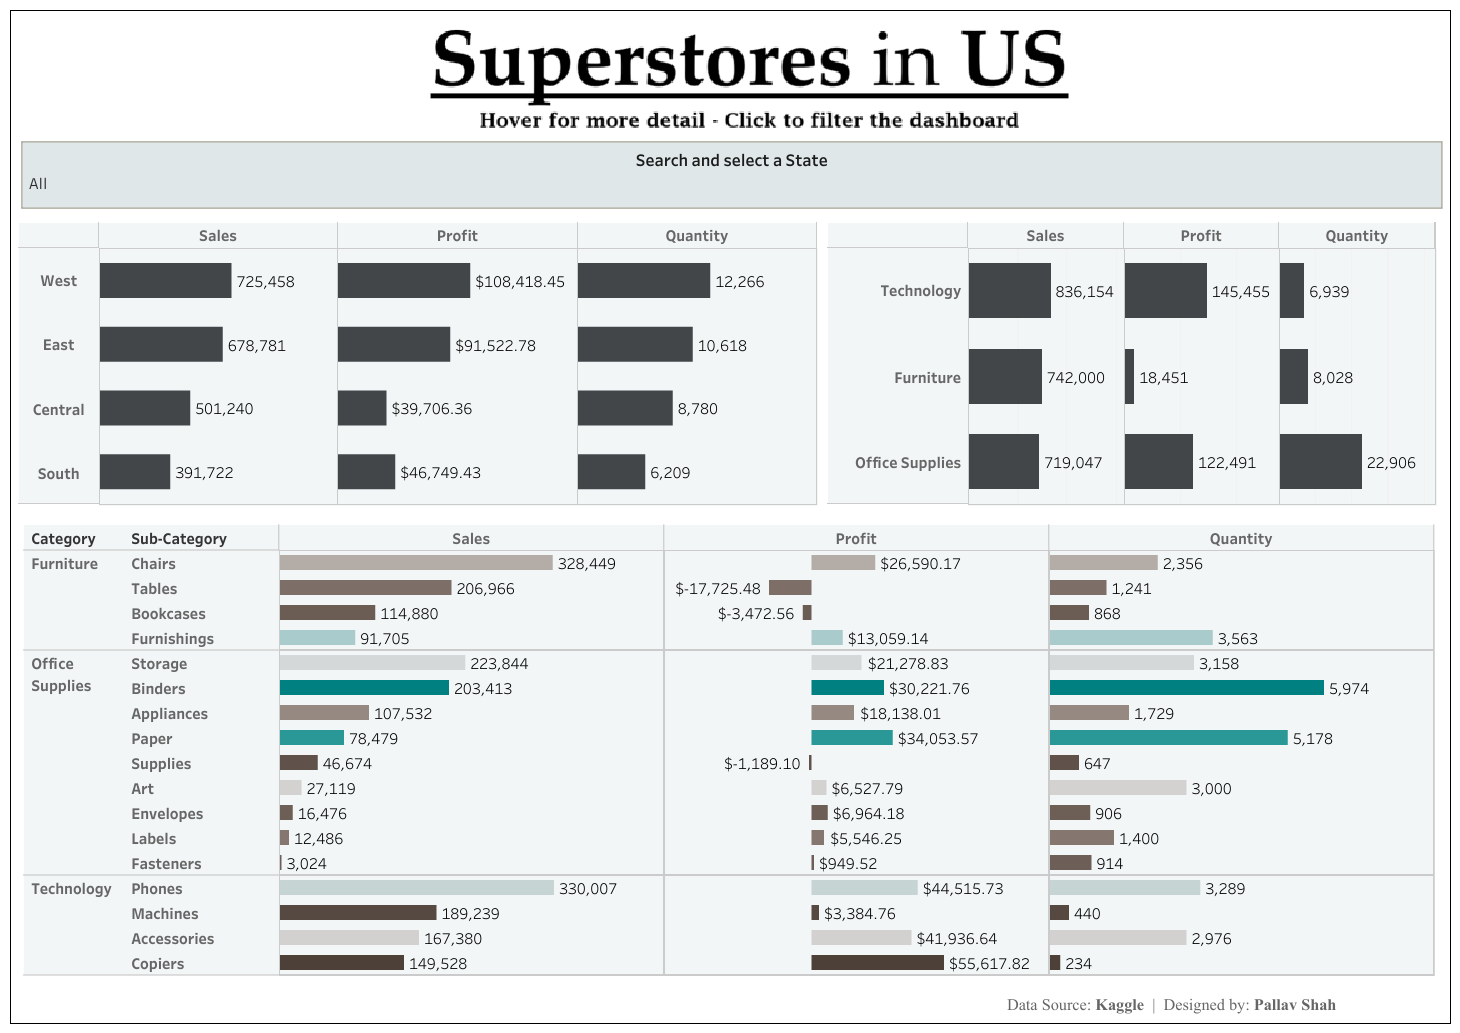

The page's visual inventory and layout, read from the dashboard file:
{"tool":"tableau","page":{"name":"Dashboard 1","canvas":[1169,827],"ordinal":0},"visuals":[{"type":"worksheet","box":[0,0,1169,827]},{"type":"worksheet","param":"horz","box":[8,8,1153,811]},{"type":"worksheet","box":[8,8,1153,811]},{"type":"worksheet","param":"Image/title.png","box":[273,13,655,104]},{"type":"worksheet","title":"Sheet 3","mark":"Bar","rows":["Region"],"param":"[federated.16d6vzi1ylcxtq13ma1pl0wlym7x].[none:State:nk]","box":[17,112.9,1137,54.5]},{"type":"worksheet","param":"horz","box":[11,174.2,1142,233.5]},{"type":"worksheet","title":"Sheet 3","mark":"Bar","rows":["Region"],"box":[11,174.2,647,233.5]},{"type":"worksheet","title":"Sheet 4","mark":"Automatic","rows":["Category"],"box":[658,174.2,495,233.5]},{"type":"worksheet","param":"horz","box":[15,416.4,1137,368.7]},{"type":"worksheet","title":"Sheet 1","mark":"Bar","rows":["Category","Sub-Category"],"box":[15,416.4,1137,368.7]},{"type":"worksheet","box":[803,792,352,22.4]}]}

Visuals, with their boxes in screenshot pixels (x1, y1, x2, y2), scaled from the page's 1169x827 canvas onto the 1460x1033 screenshot:
worksheet: [x1=0, y1=0, x2=1459, y2=1032]
worksheet: [x1=10, y1=10, x2=1450, y2=1023]
worksheet: [x1=10, y1=10, x2=1450, y2=1023]
worksheet: [x1=341, y1=16, x2=1159, y2=146]
"Sheet 3" worksheet (Bar marks): [x1=21, y1=141, x2=1441, y2=209]
worksheet: [x1=14, y1=218, x2=1440, y2=509]
"Sheet 3" worksheet (Bar marks): [x1=14, y1=218, x2=822, y2=509]
"Sheet 4" worksheet: [x1=822, y1=218, x2=1440, y2=509]
worksheet: [x1=19, y1=520, x2=1439, y2=981]
"Sheet 1" worksheet (Bar marks): [x1=19, y1=520, x2=1439, y2=981]
worksheet: [x1=1003, y1=989, x2=1443, y2=1017]
